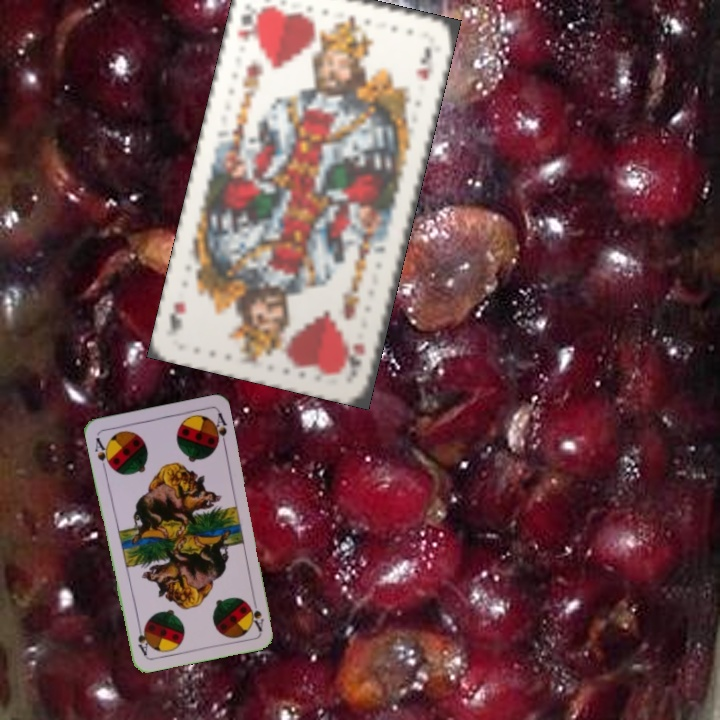HK: (232, 2, 265, 46), (343, 338, 368, 372)
SA: (91, 434, 114, 473), (245, 593, 266, 634)
